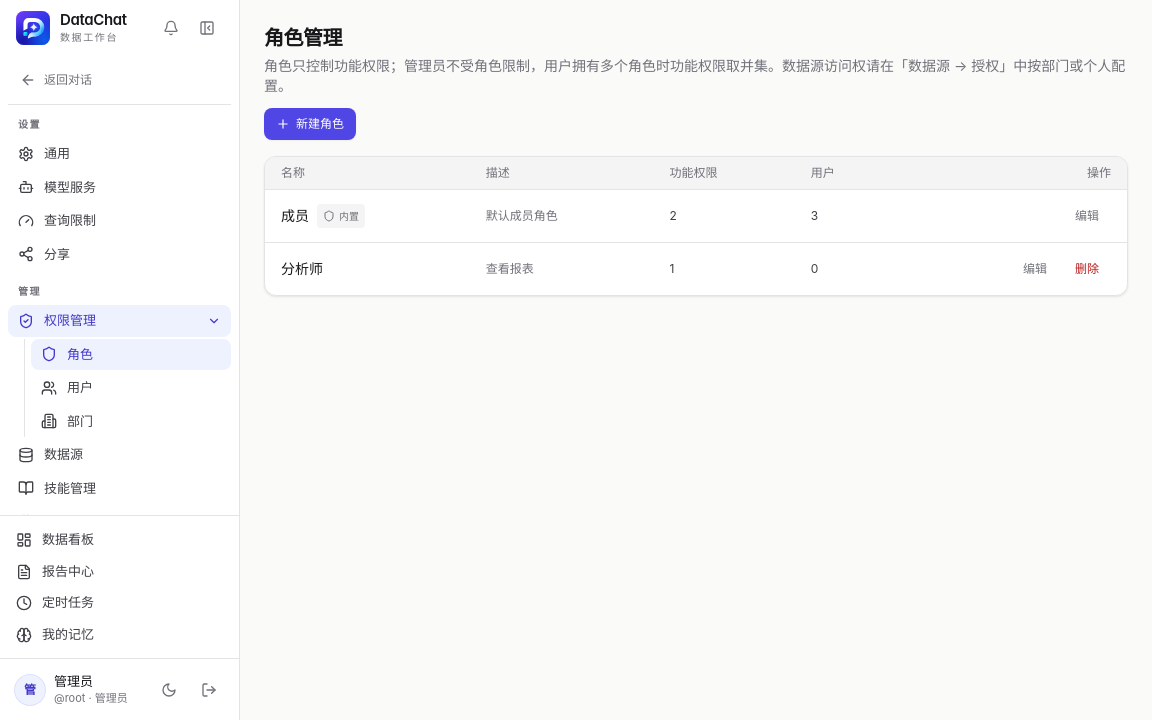
Test: RolesPage › does not allow renaming or deleting a builtin role
Expected: the text "成员" is shown, [281, 206, 309, 226]
Click the button "编辑" in the row of "内置": coordinates (1087, 216) [1063, 200, 1111, 232]
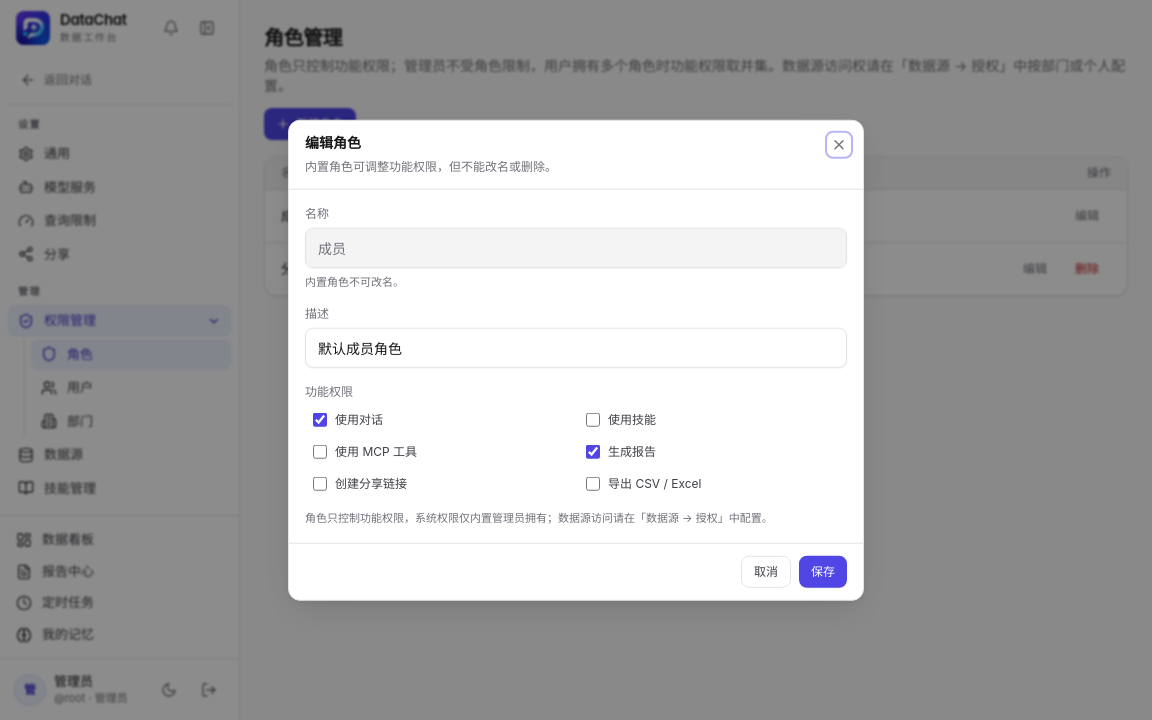
Now the field labelled "名称" is disabled, box [305, 227, 847, 267]
Now the field labelled "名称" holds "成员", box [305, 227, 847, 267]
